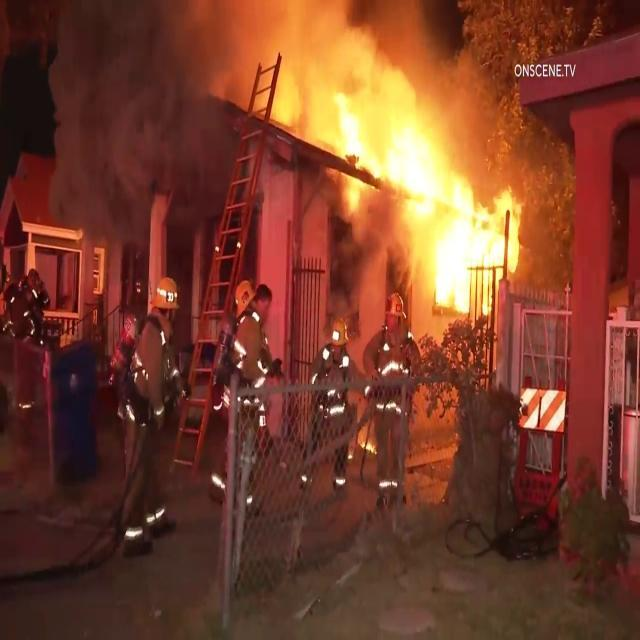Fire: (344, 88, 490, 294)
Smoke: (73, 18, 201, 231)
